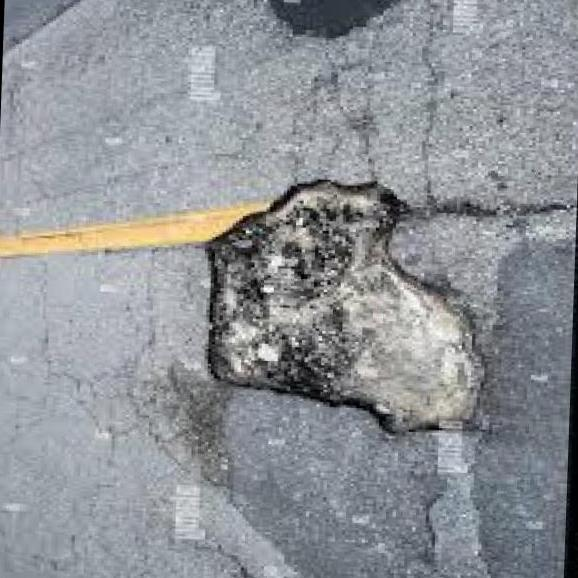pothole: (181, 152, 511, 462)
